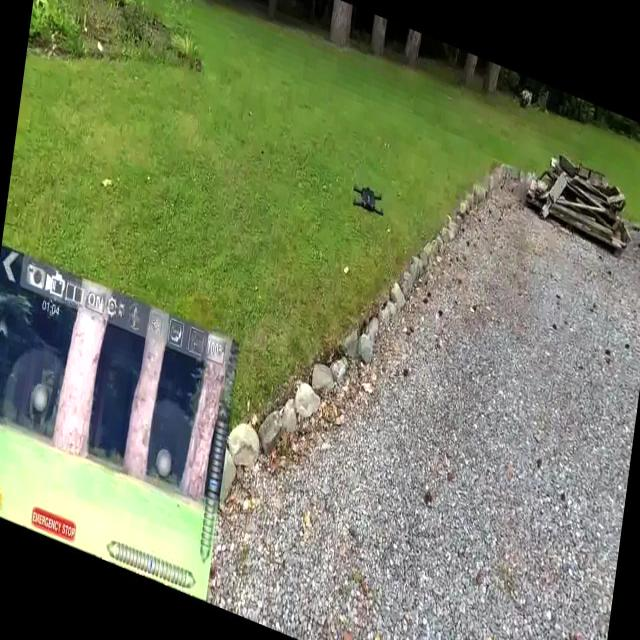drone: (344, 173, 394, 239)
